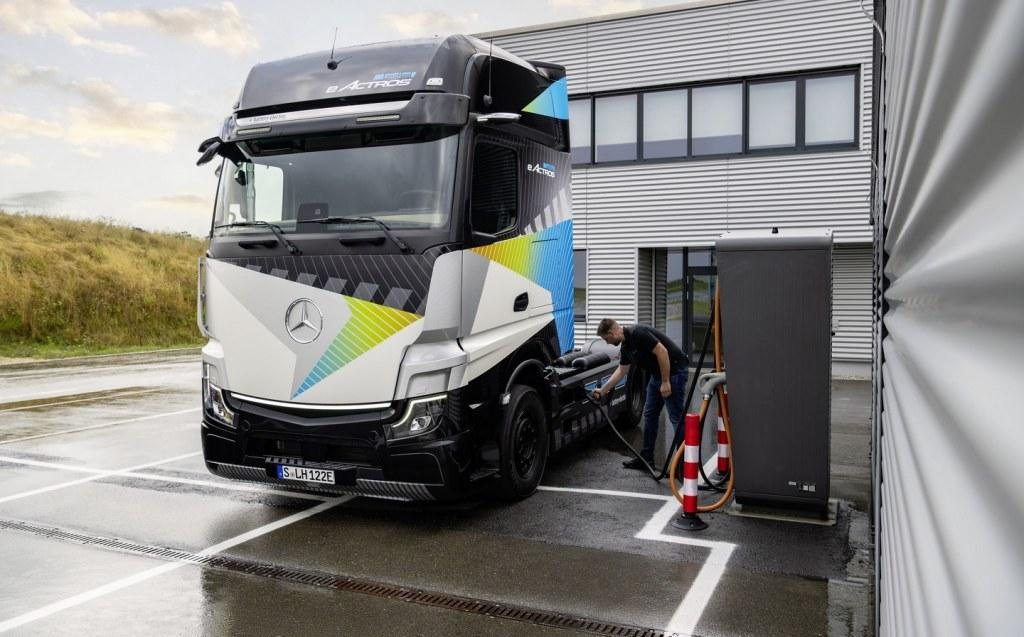truck: (195, 34, 640, 506)
